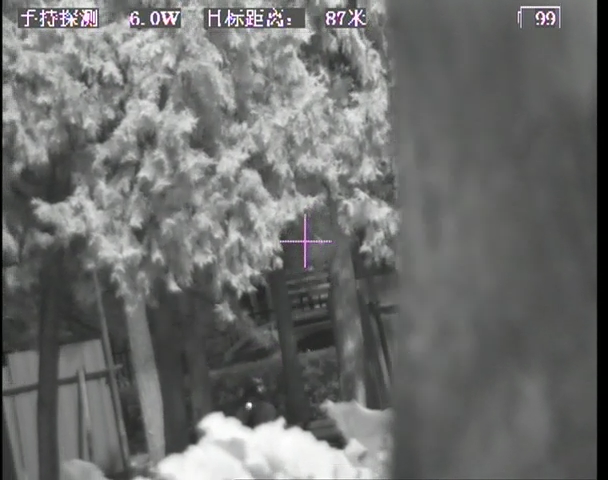my: (243, 400, 255, 411)
